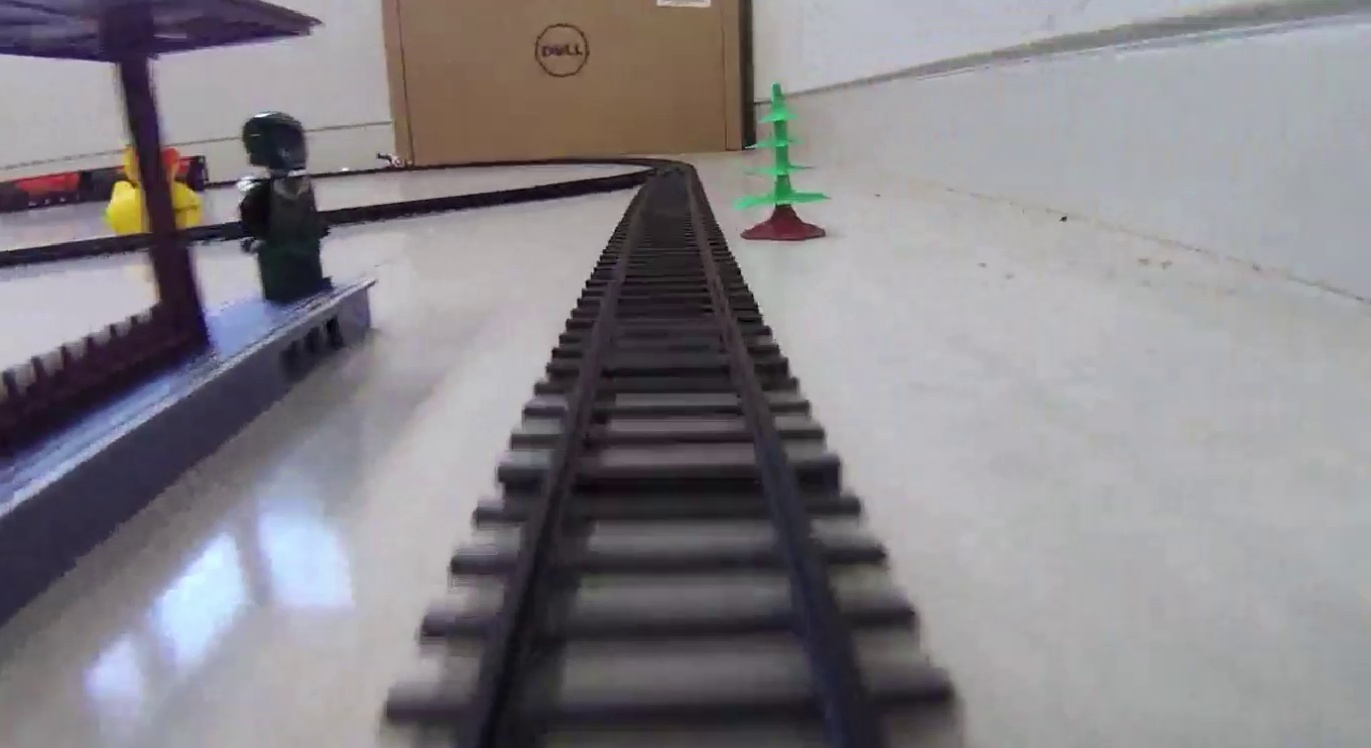people: (237, 110, 331, 299)
tree: (732, 85, 828, 241)
